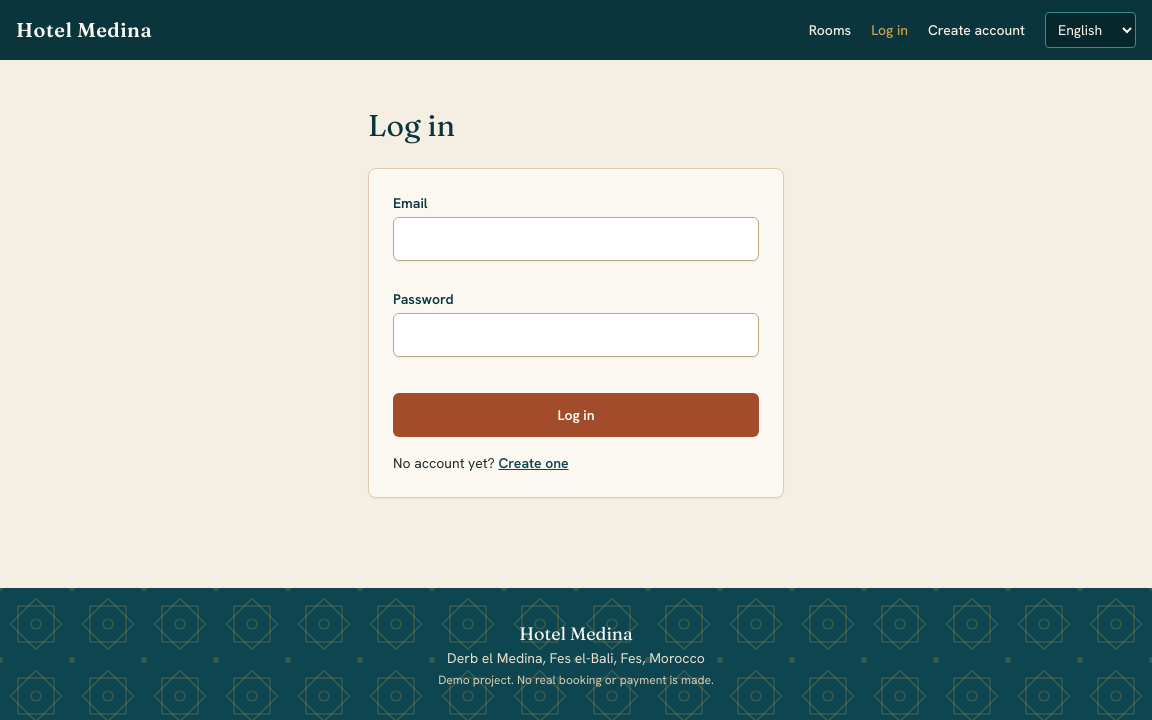
it: auth guards › shows server errors on the login form
This screenshot has width=1152, height=720.
Type "a@b.co" into the field labelled "Email" at (576, 239), box [393,217,759,261]
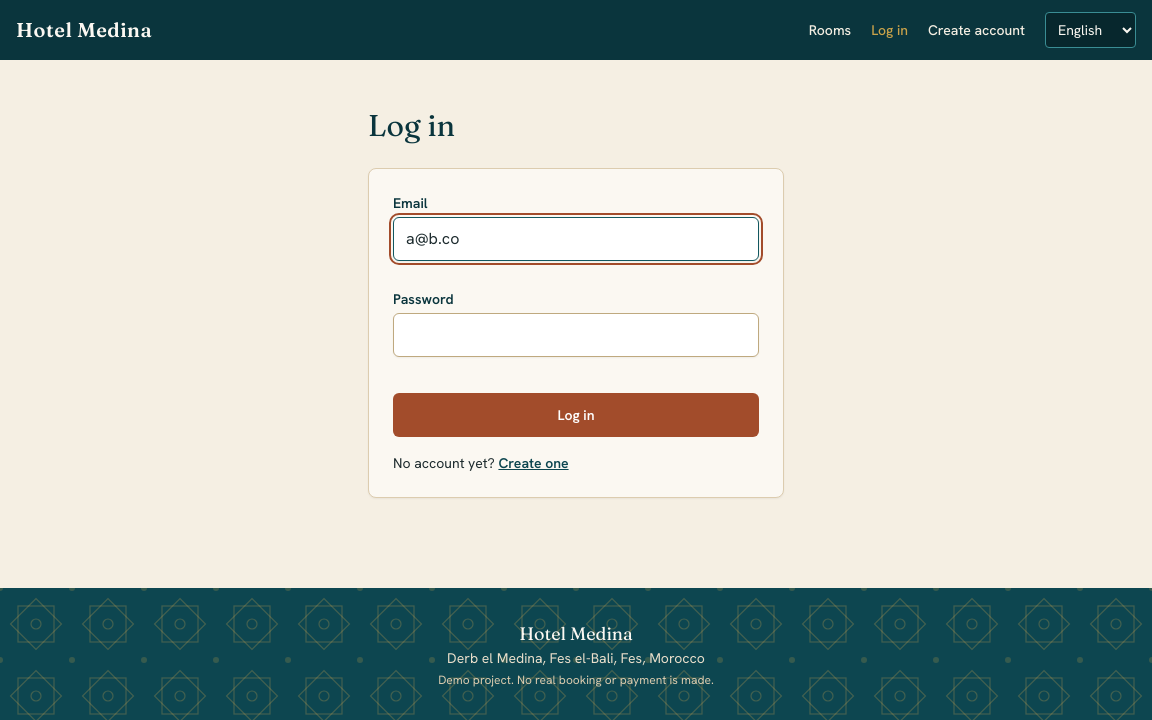
Type "wrongpass" into the password field labelled "Password" at (576, 335), box [393,313,759,357]
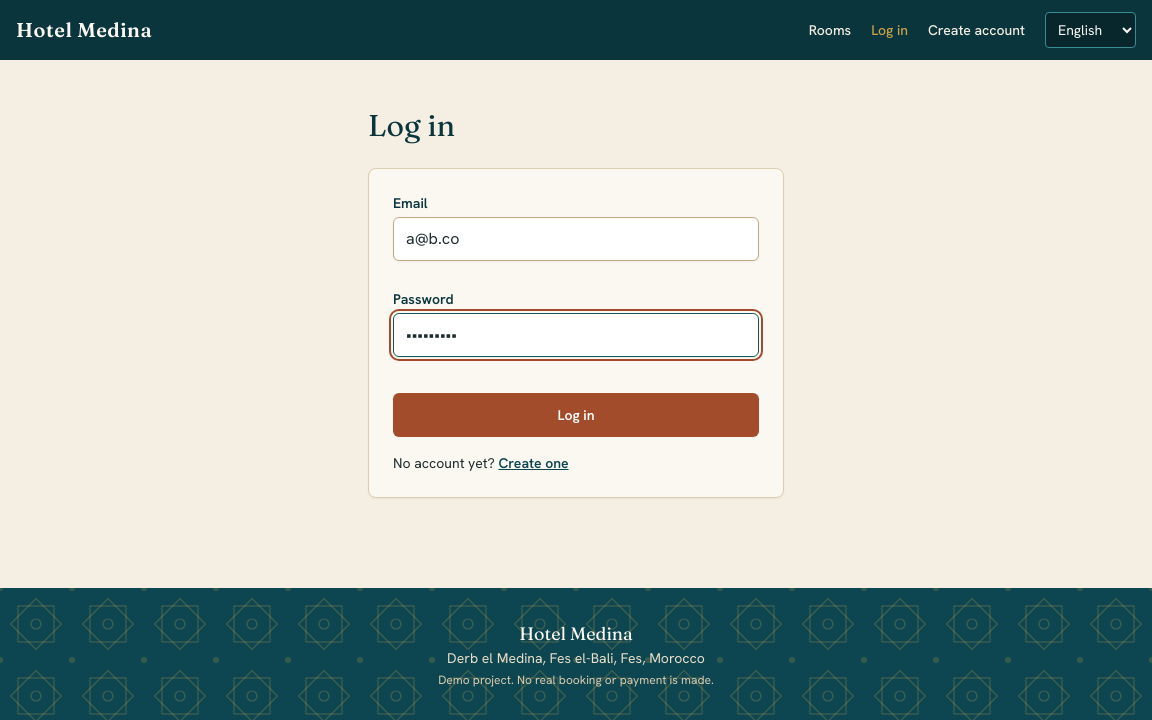
Click the button "Log in" at (576, 415), box [393,393,759,437]
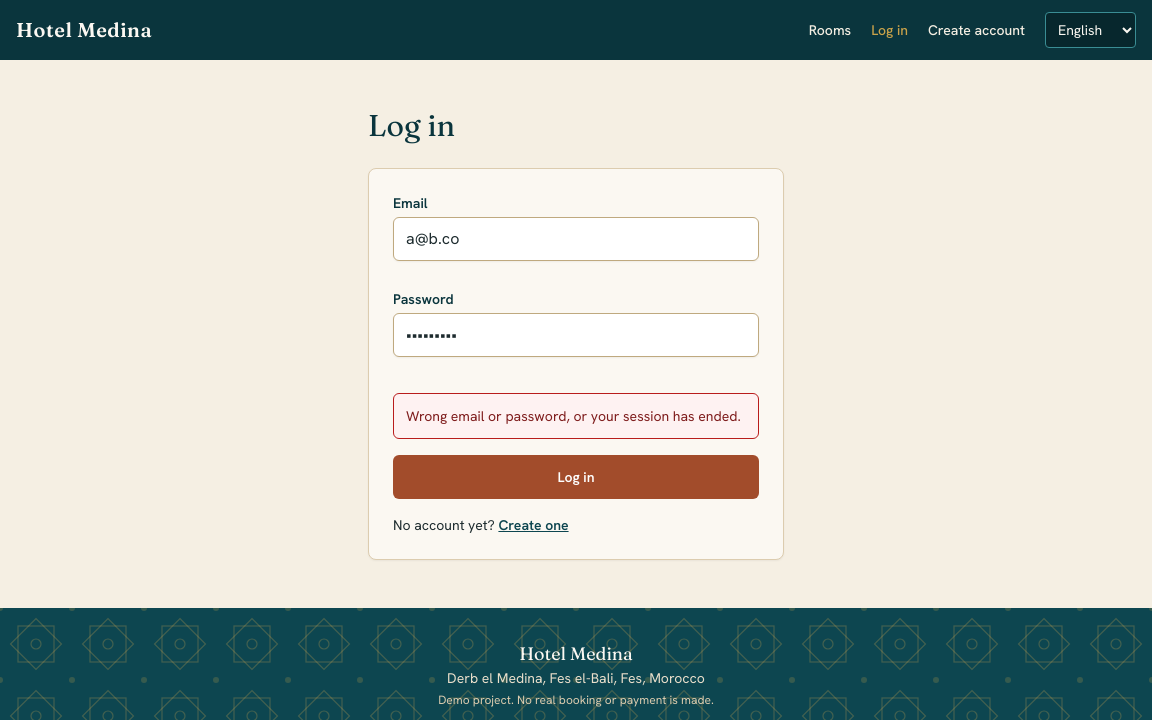
Expected: the text "Wrong email or password, or your session has ended." is shown, [406,406,746,426]
